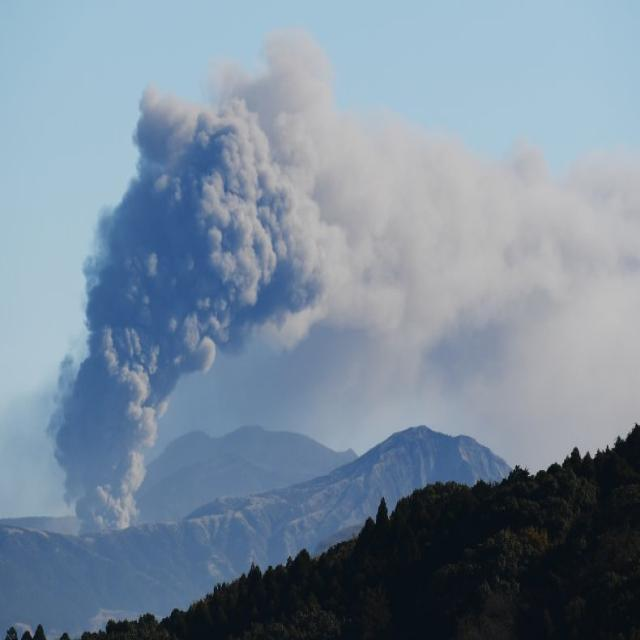Smoke: (41, 90, 318, 543)
